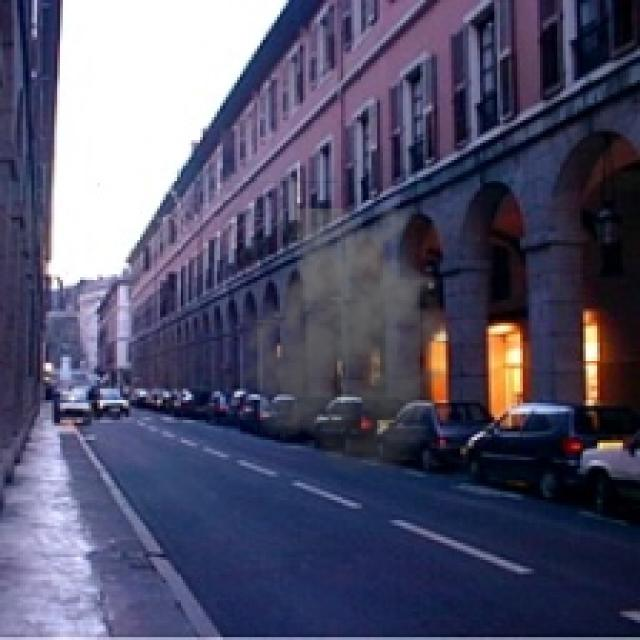smoke: (235, 209, 474, 477)
